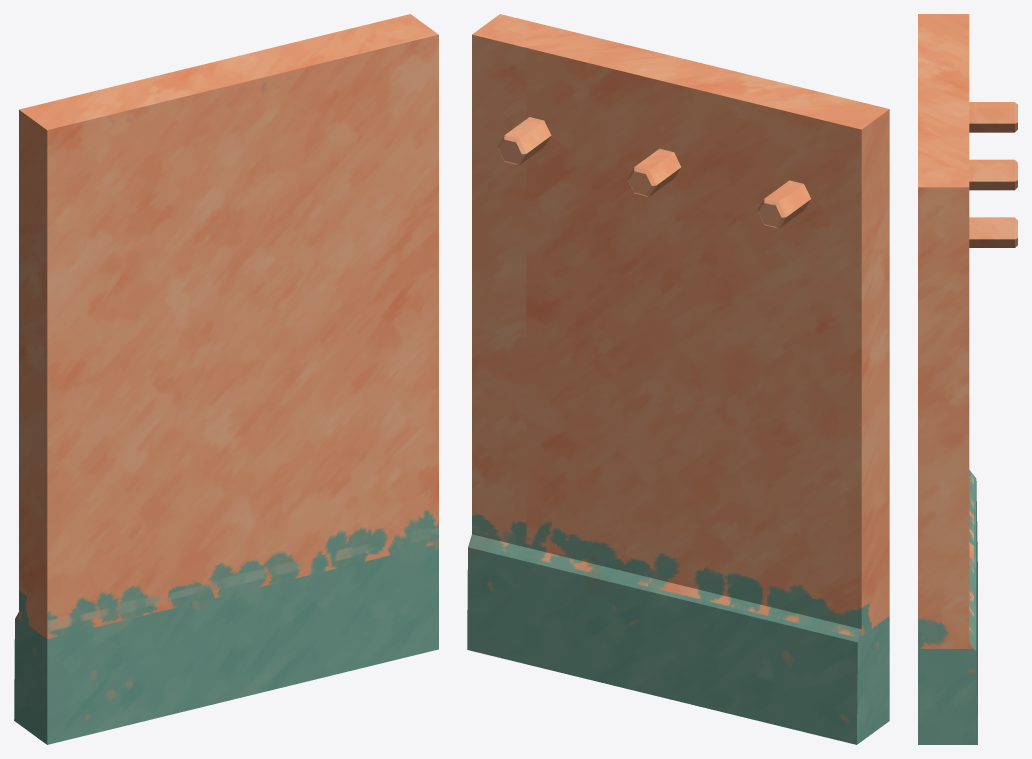
Rendered from wall_plain_low.fbx.
The picture shows the model from 3 angles, left to right: view 1: azimuth 30°, elevation 25°; view 2: azimuth 150°, elevation 25°; view 3: azimuth 270°, elevation 25°; orthographic projection. The views are drawn at different scales.
Parts seen in each view (by area): view 1: wall_plain_low; view 2: wall_plain_low; view 3: wall_plain_low.
Part boxes in pixels (<box>): wall_plain_low: <box>14,14,438,744</box>; wall_plain_low: <box>467,14,889,744</box>; wall_plain_low: <box>918,14,1017,744</box>.
Bounding box in the file's own units: 8 × 12 × 1.95.
1 material, 1 textured.
